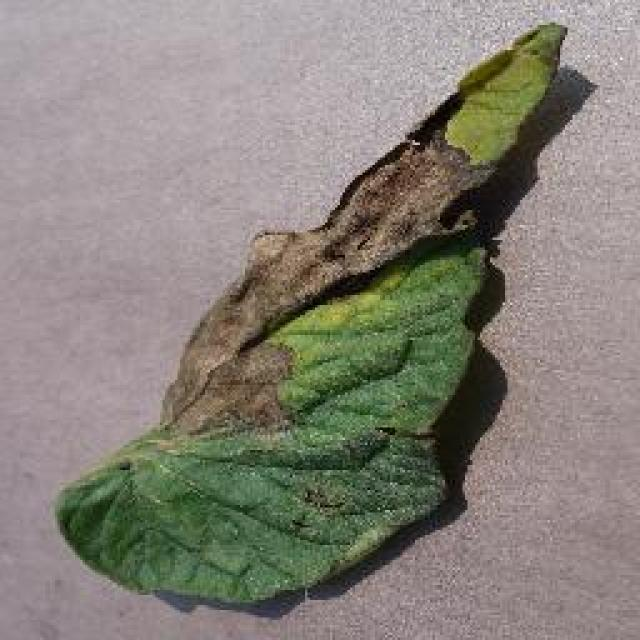Tomato___Late_blight: (50, 11, 577, 612)
